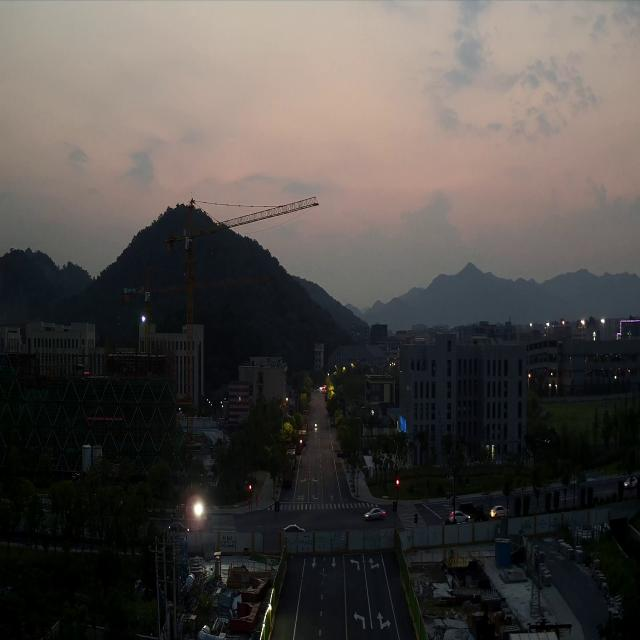drone: (72, 363, 89, 376)
